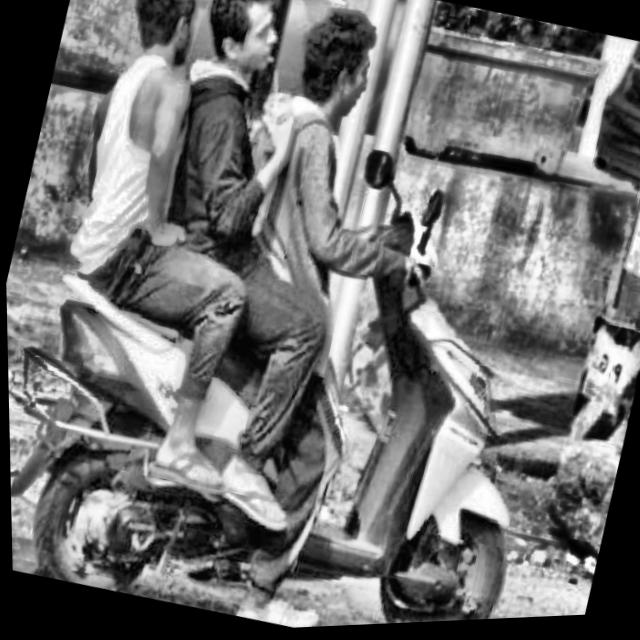motorcycle: (3, 130, 597, 640)
